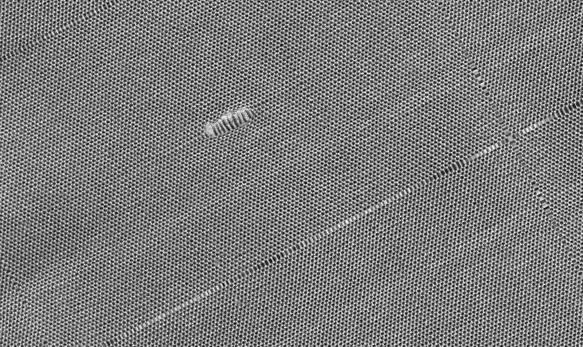slub: (198, 103, 261, 141)
